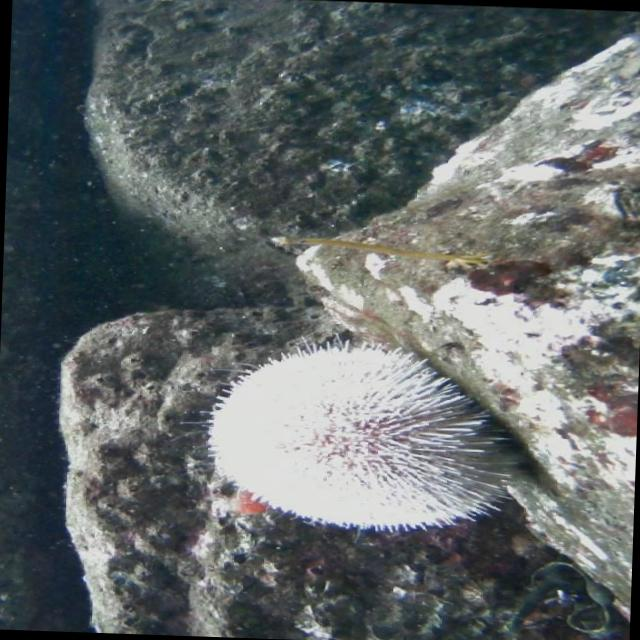Deniz Kestanesi: (173, 328, 528, 548)
